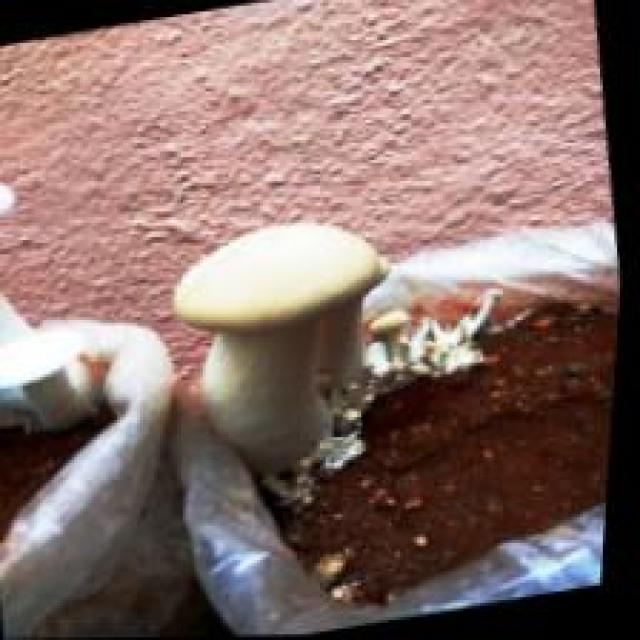field-mushroom: (168, 217, 388, 486)
